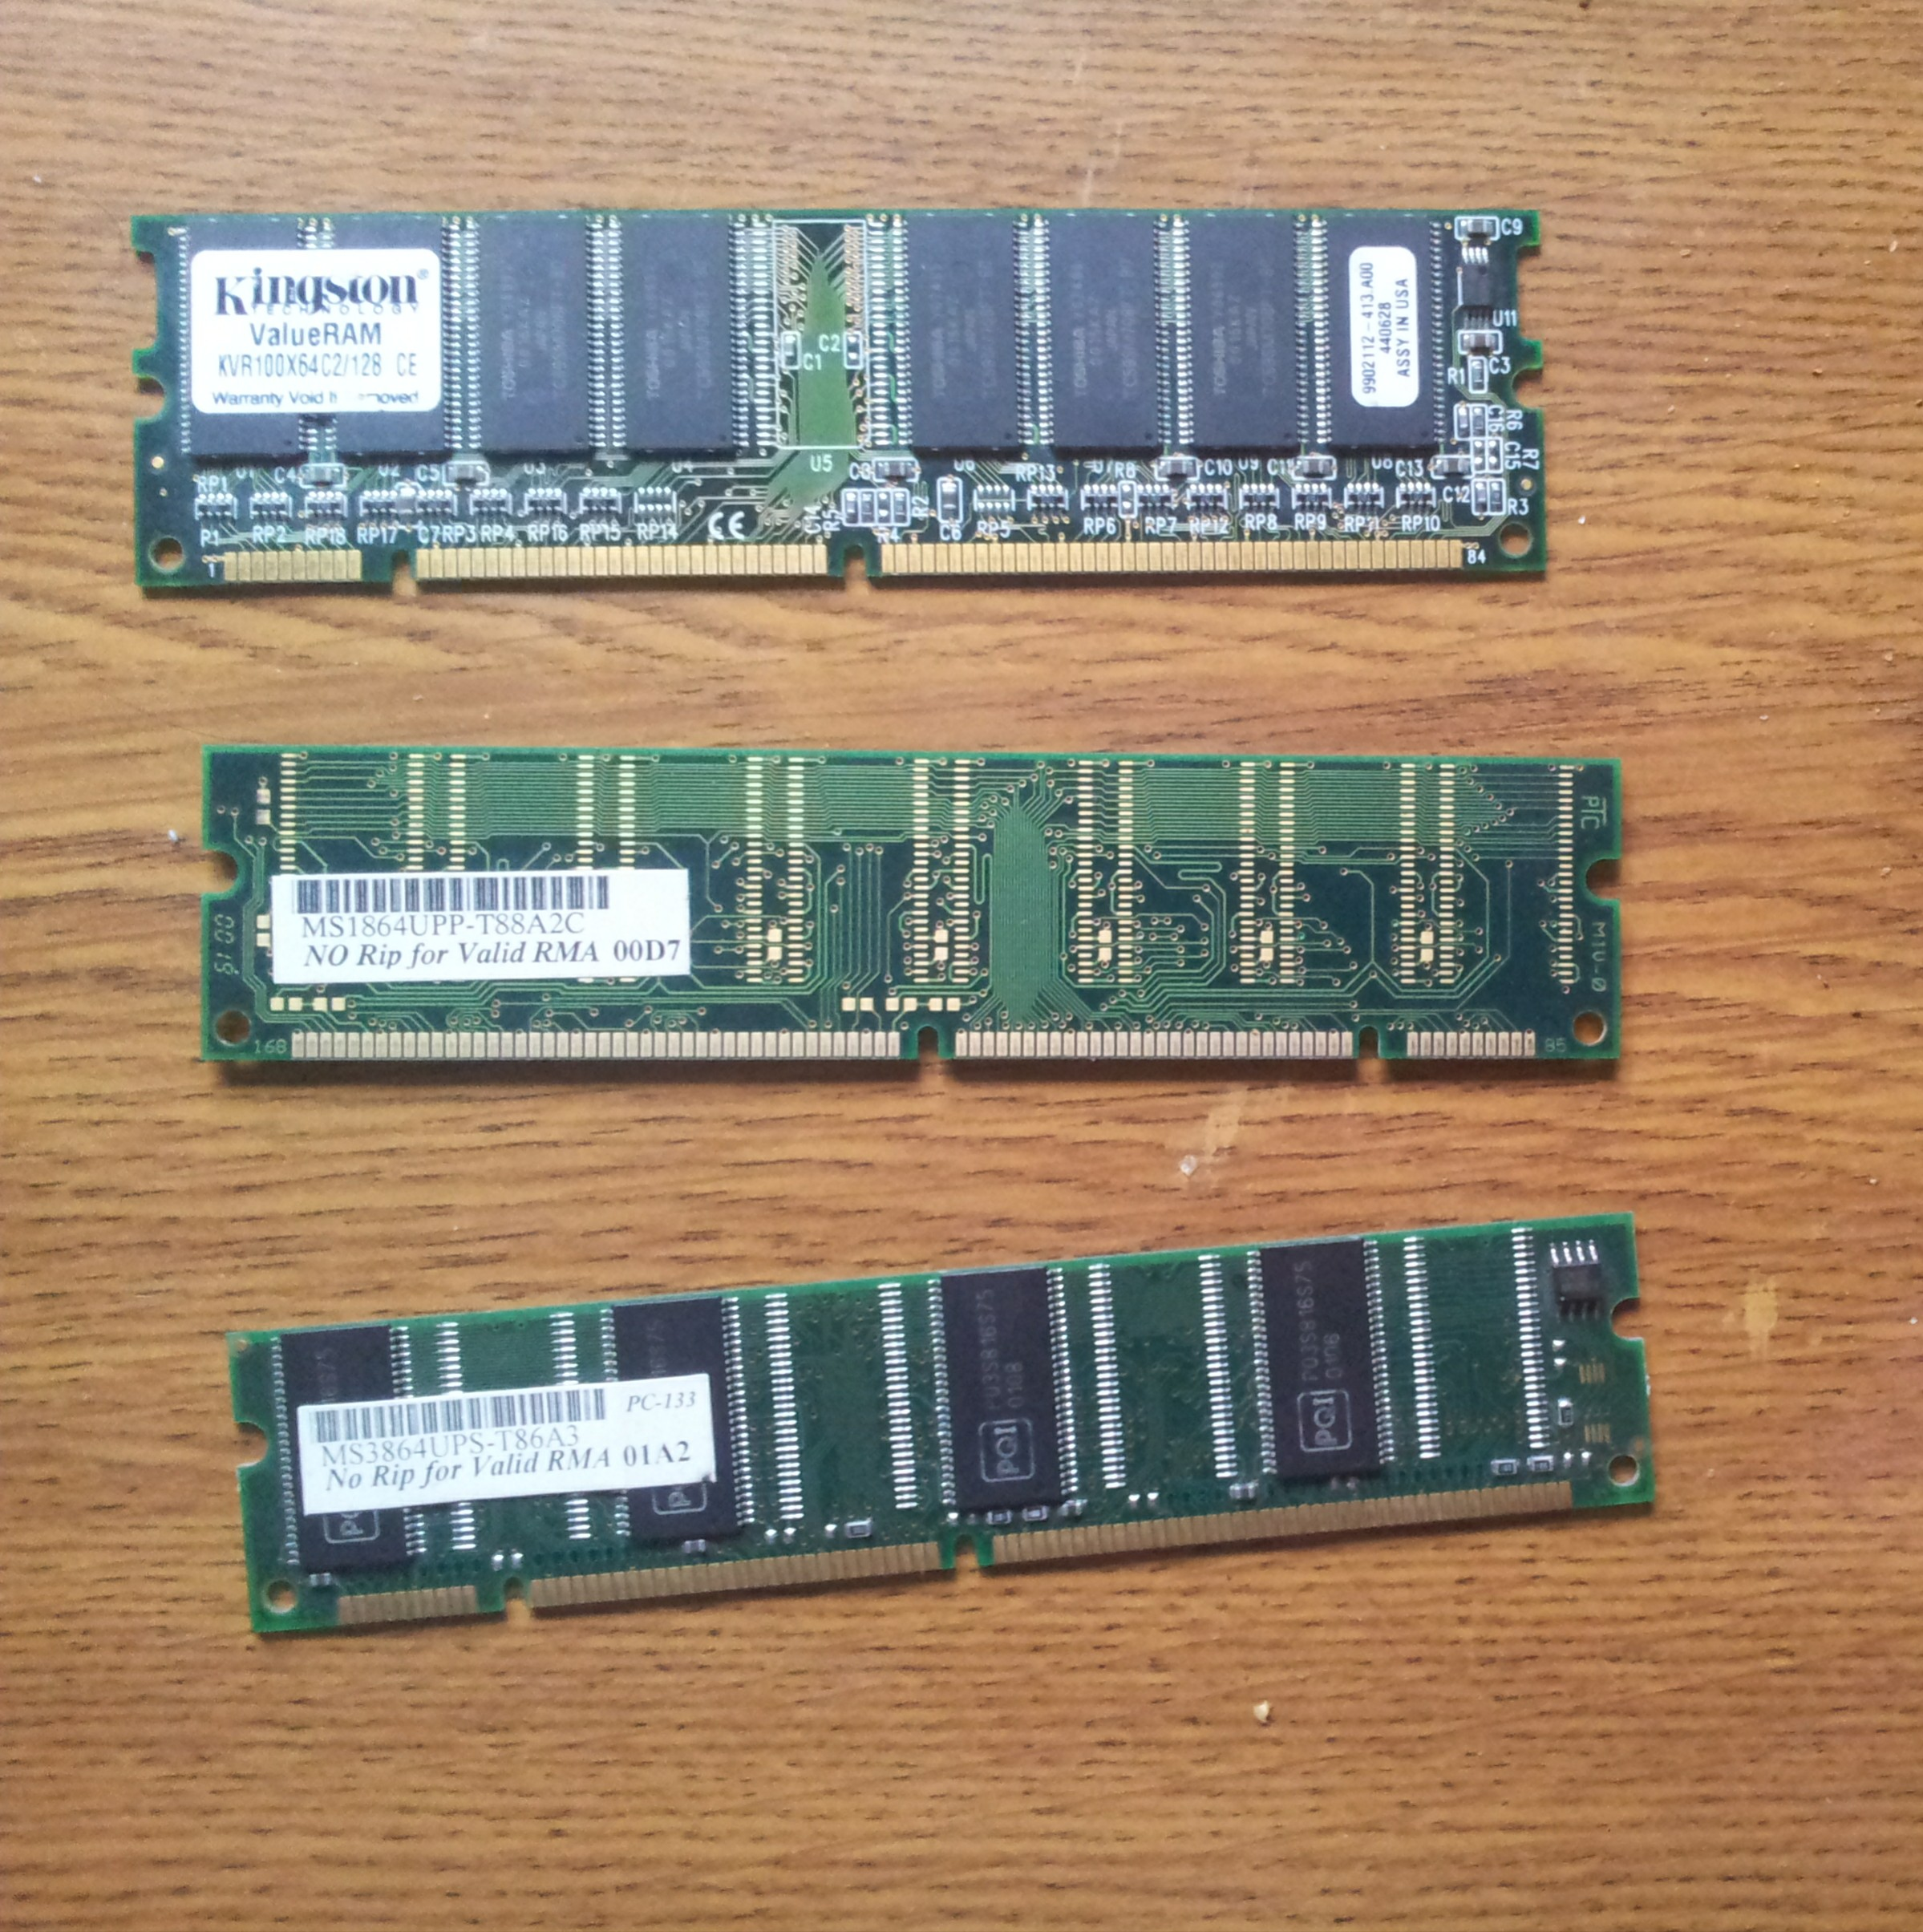ram: (225, 1208, 1659, 1654), (136, 204, 1548, 590), (197, 738, 1629, 1074)
